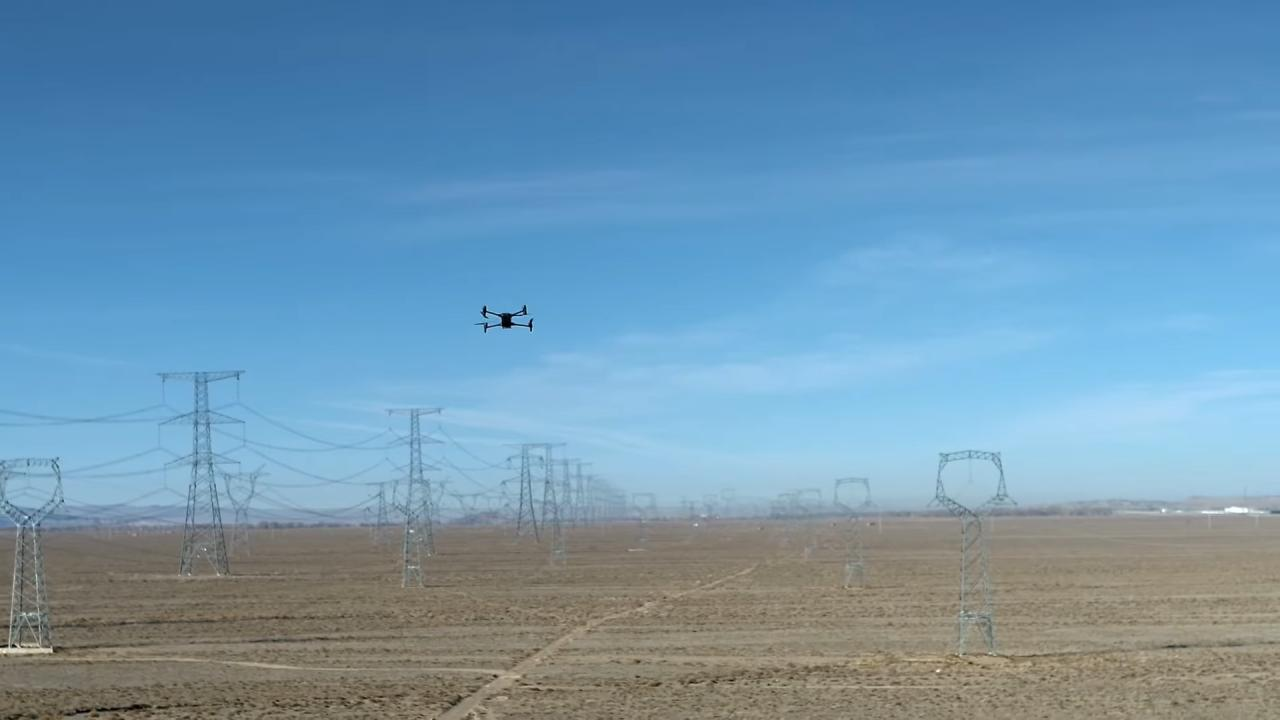Drone: (467, 294, 546, 345)
